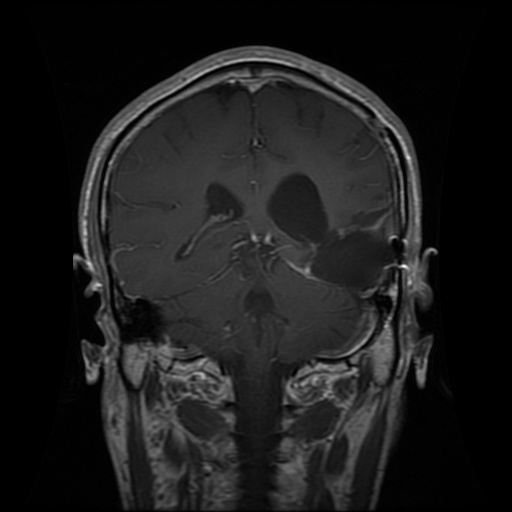glioma: (265, 172, 398, 296)
